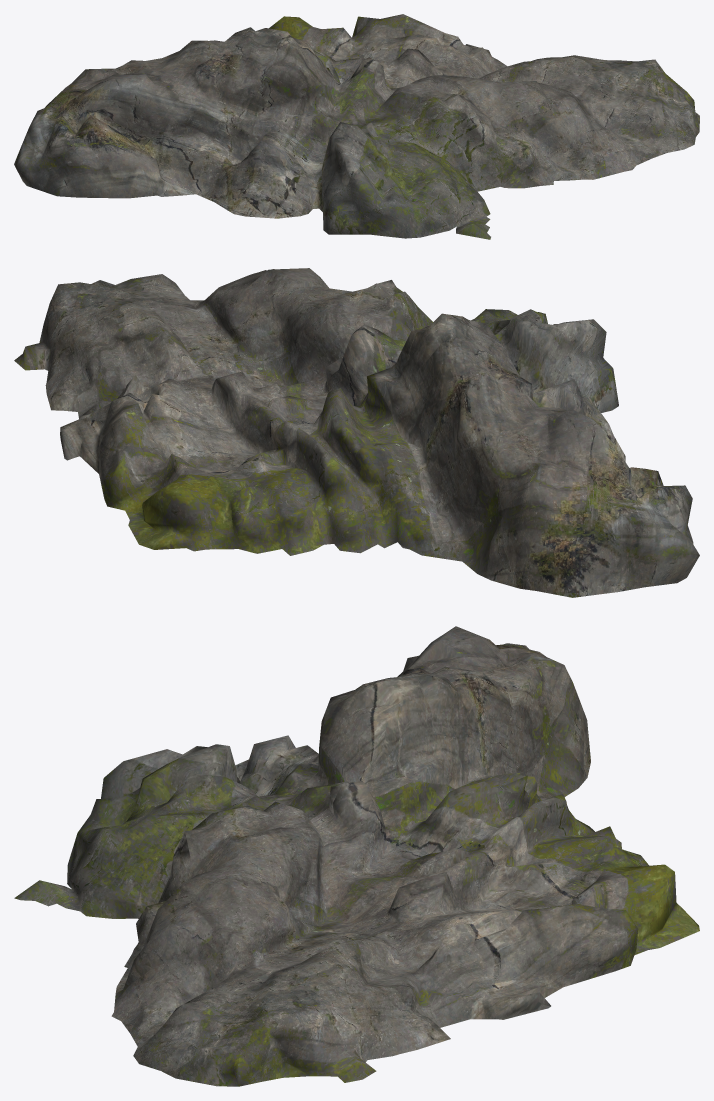
File: Rock26.fbx
3 renders of one model, top to bottom at view 1: azimuth 30°, elevation 25°; view 2: azimuth 150°, elevation 25°; view 3: azimuth 270°, elevation 25°, orthographic. The views are drawn at different scales.
Visible parts, largest first — view 1: LV_Campagna_Rock_Stone02_SM_HSH; view 2: LV_Campagna_Rock_Stone02_SM_HSH; view 3: LV_Campagna_Rock_Stone02_SM_HSH.
Boxes of the visible parts, x1=… form: LV_Campagna_Rock_Stone02_SM_HSH: x1=14, y1=14, x2=699, y2=239; LV_Campagna_Rock_Stone02_SM_HSH: x1=14, y1=268, x2=699, y2=597; LV_Campagna_Rock_Stone02_SM_HSH: x1=14, y1=626, x2=699, y2=1086.
Bounding box in the file's own units: 4.81 × 0.9998 × 3.56.
Materials: 1 (1 with a texture image).
